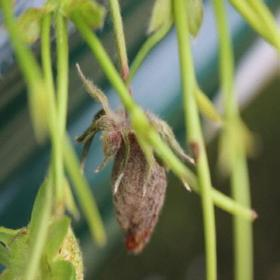Gray Mold: (75, 64, 196, 256)
